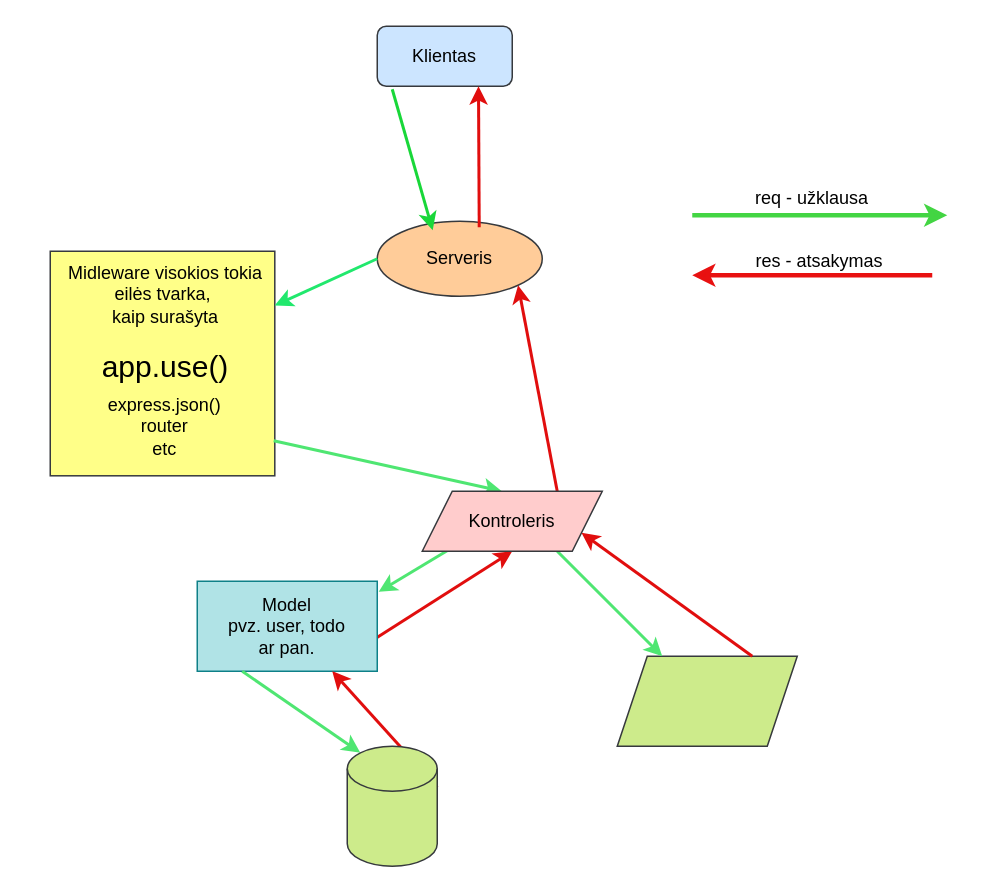
This 987x893 diagram has some shape labels left out. The shapes that lost their labels are listed below. From the top down, each one's centre as x and y in pixels, then its label:
[706,700]: Servisai Helperiai
[391,805]: DB
